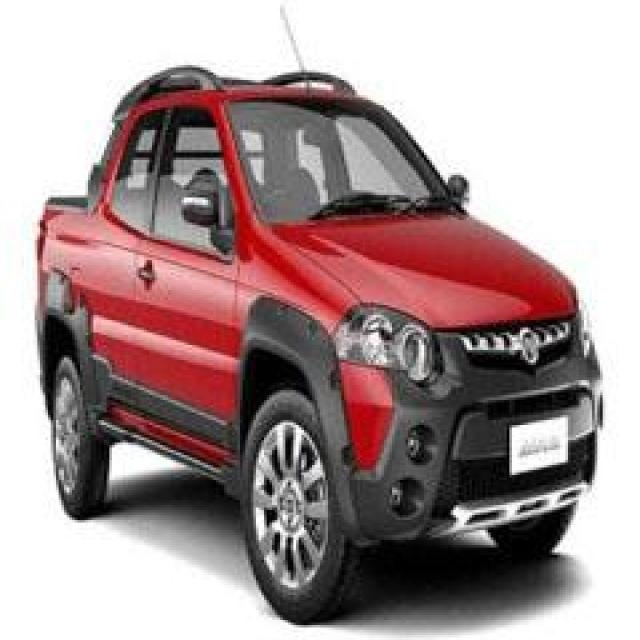car: (12, 41, 639, 634)
